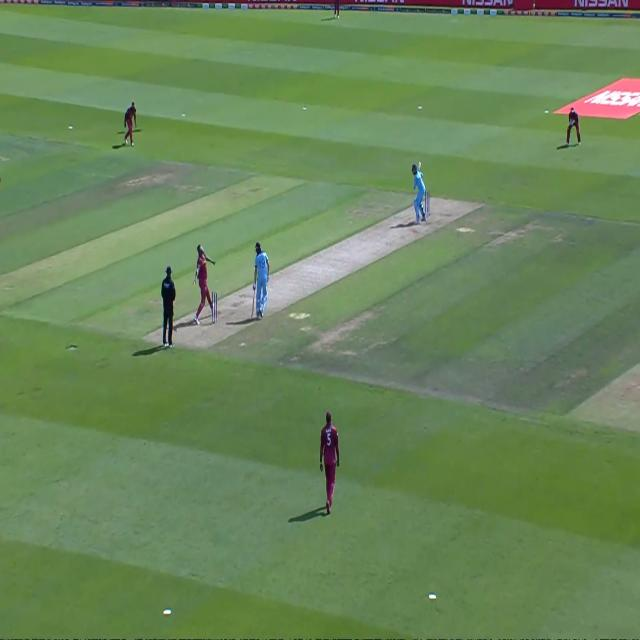ball: (192, 280, 199, 297)
